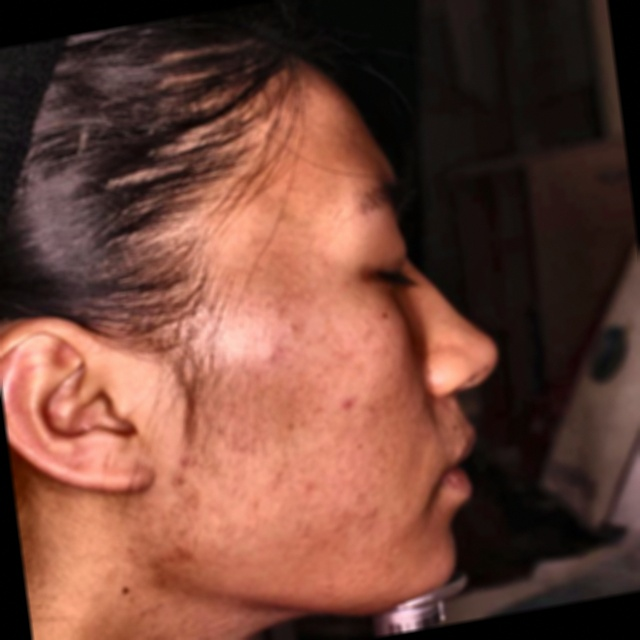comedone: (256, 340, 293, 378), (341, 380, 367, 416)
